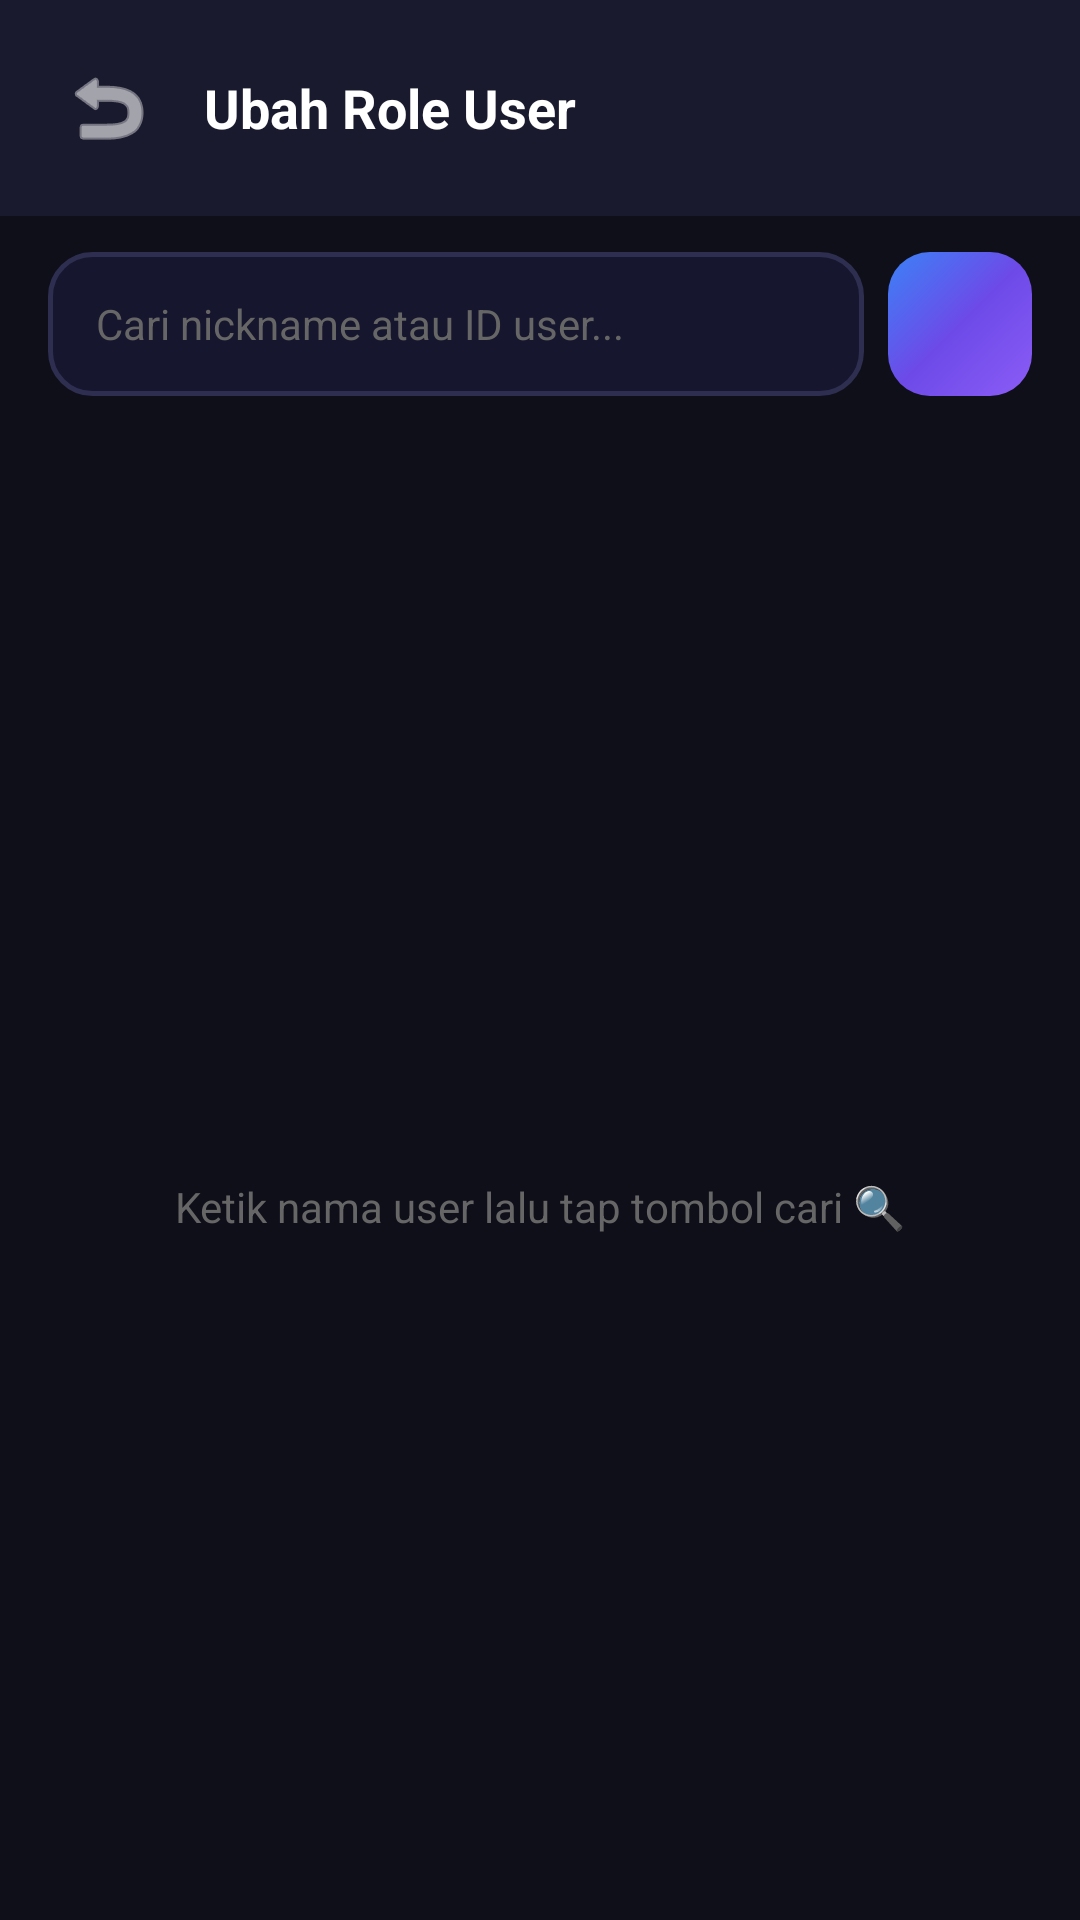

Named icons in this screenshot (1080*1920) and their centers, point (x, y):
Kembali: point (109, 108)
